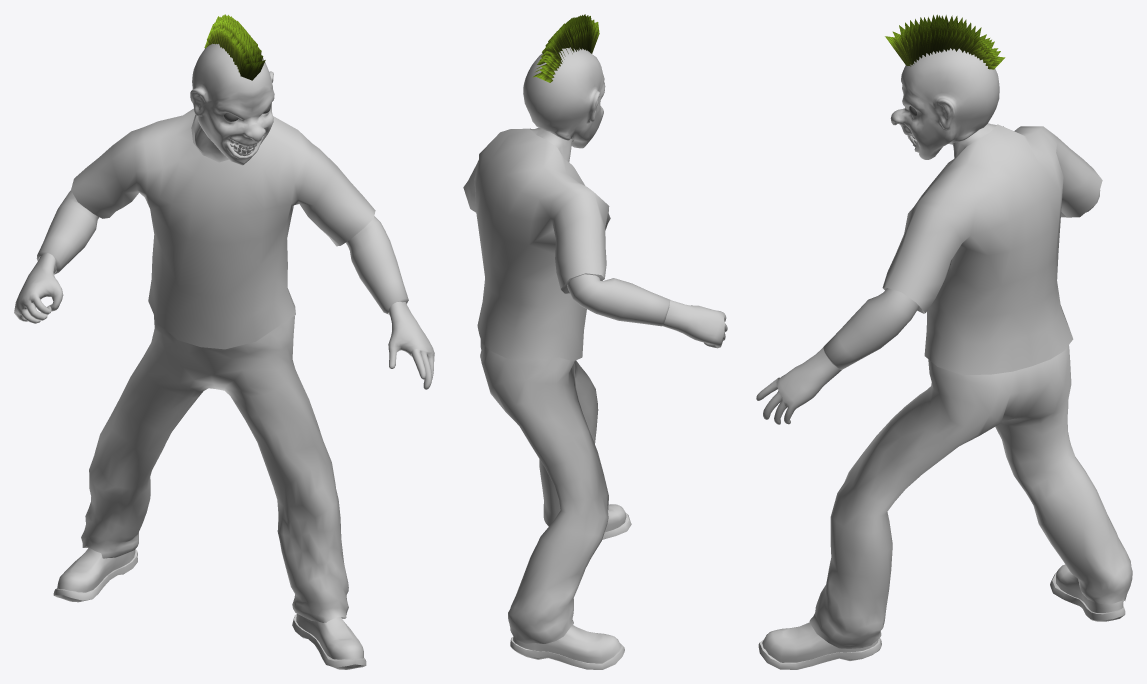
File: Attack02 (42).obj
3 renders of one model, left to right at view 1: azimuth 30°, elevation 25°; view 2: azimuth 150°, elevation 25°; view 3: azimuth 270°, elevation 25°, orthographic. The views are drawn at different scales.
Visible parts, largest first — view 1: shirt, pants, head, forearm_band_002, boots, forearm_band_01, boots001, hand_left, hand_right, Hair; view 2: shirt, pants, head, forearm_band_01, boots, Hair, hand_right, boots001, neck; view 3: pants, shirt, head, forearm_band_002, Hair, boots001, hand_left, boots.
Part boxes in pixels (x1,y1,x2,y2): shirt: (71, 108, 375, 349); pants: (81, 315, 348, 622); head: (190, 43, 274, 165); forearm_band_002: (346, 216, 408, 314); boots: (53, 548, 137, 602); forearm_band_01: (36, 190, 99, 274); boots001: (292, 614, 366, 669); hand_left: (388, 301, 434, 389); hand_right: (14, 253, 63, 323); Hair: (204, 14, 265, 80); shirt: (463, 128, 610, 361); pants: (480, 340, 608, 643); head: (523, 47, 605, 148); forearm_band_01: (567, 274, 669, 326); boots: (510, 625, 624, 669); Hair: (533, 14, 599, 82); hand_right: (662, 300, 727, 348); boots001: (602, 504, 631, 539); neck: (531, 127, 573, 162); pants: (809, 345, 1132, 648); shirt: (882, 124, 1102, 375); head: (890, 48, 999, 159); forearm_band_002: (823, 288, 919, 370); Hair: (885, 14, 1005, 69); boots001: (758, 622, 881, 669); hand_left: (756, 347, 841, 424); boots: (1050, 564, 1125, 621).
Bounding box in the file's own units: 101 × 184 × 99.36.
